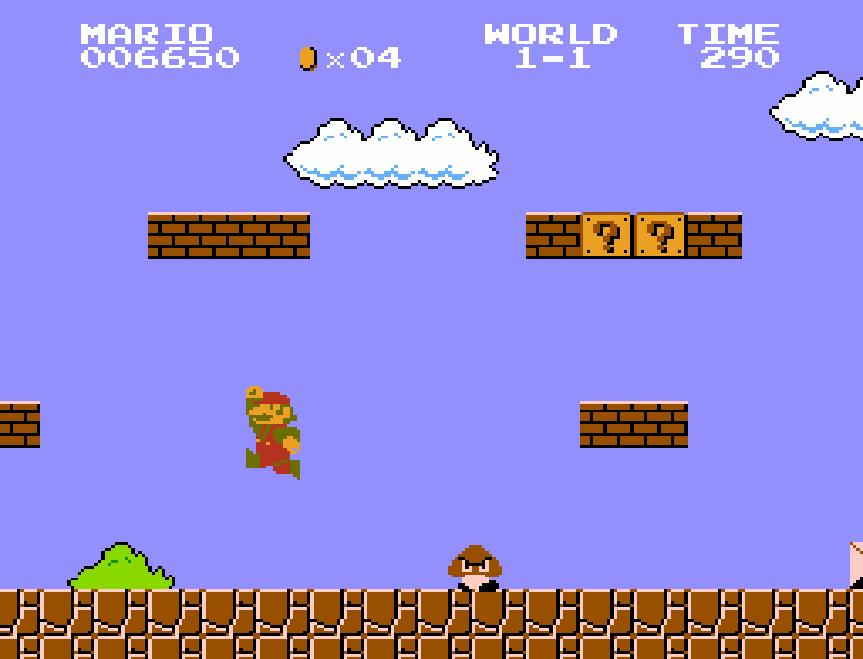big_mario: (244, 384, 302, 482)
